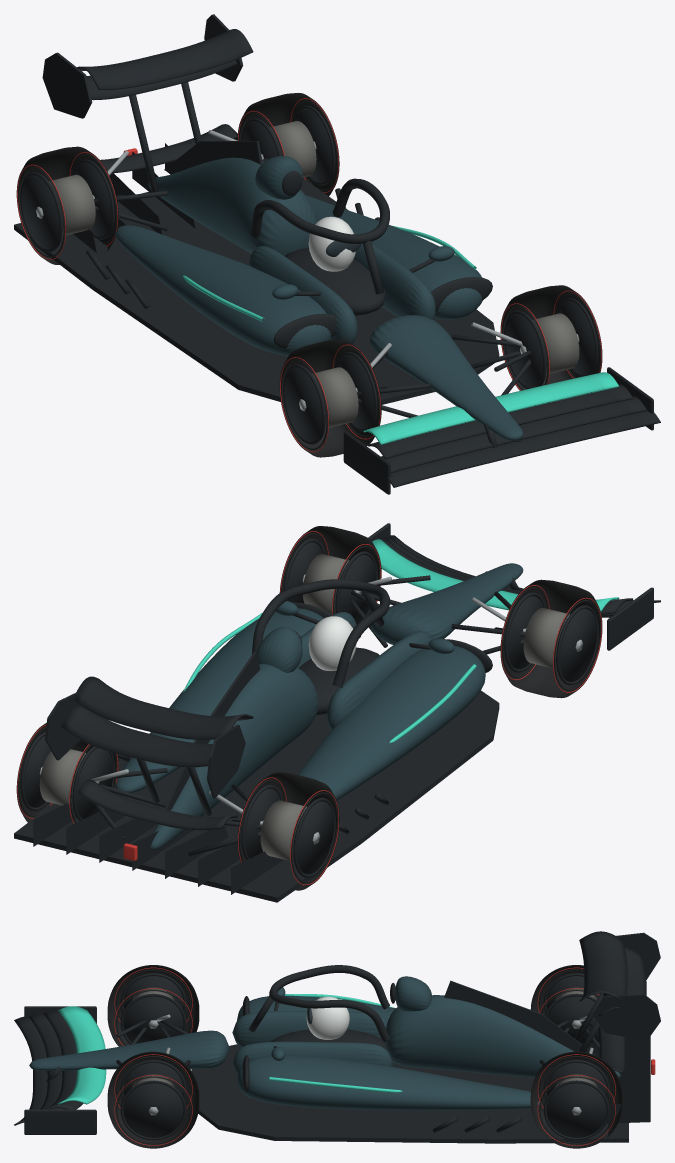
File: car-high.glb
The picture shows the model from 3 angles, top to bottom: view 1: azimuth 30°, elevation 25°; view 2: azimuth 150°, elevation 25°; view 3: azimuth 270°, elevation 25°; orthographic projection. The views are drawn at different scales.
Parts seen in each view (by area): view 1: TD_V4_OpenWheel_Carbon, TD_V4_OpenWheel_Paint, TD_V4_OpenWheel_Accent, Wheel_F-1_Carbon, Wheel_R-1_Carbon, Wheel_F1_Carbon, Wheel_F-1_Tyre, Wheel_R-1_Tyre, Wheel_F1_Tyre, Wheel_R1_Carbon, Wheel_R1_Tyre, Wheel_F-1_BrakeDisc (+5 smaller); view 2: TD_V4_OpenWheel_Carbon, TD_V4_OpenWheel_Paint, Wheel_F-1_Carbon, Wheel_R-1_Carbon, Wheel_F-1_Tyre, TD_V4_OpenWheel_Accent, Wheel_R1_Carbon, Wheel_F1_Carbon, Wheel_R-1_Tyre, Wheel_F1_Tyre, Wheel_F-1_BrakeDisc, Wheel_R-1_BrakeDisc (+5 smaller); view 3: TD_V4_OpenWheel_Carbon, TD_V4_OpenWheel_Paint, Wheel_R1_Carbon, Wheel_F1_Carbon, Wheel_F-1_Carbon, TD_V4_OpenWheel_Accent, Wheel_F1_Tyre, Wheel_R1_Tyre, Wheel_F-1_Tyre, Wheel_R-1_Carbon, TD_V4_OpenWheel_Helmet, Wheel_R-1_Tyre (+3 smaller).
Boxes of the visible parts, <box> form: TD_V4_OpenWheel_Carbon: <box>14,14,660,494</box>; TD_V4_OpenWheel_Paint: <box>115,156,523,440</box>; TD_V4_OpenWheel_Accent: <box>183,225,619,444</box>; Wheel_F-1_Carbon: <box>283,352,377,444</box>; Wheel_R-1_Carbon: <box>20,159,114,252</box>; Wheel_F1_Carbon: <box>504,298,598,388</box>; Wheel_F-1_Tyre: <box>279,339,381,457</box>; Wheel_R-1_Tyre: <box>16,146,118,264</box>; Wheel_F1_Tyre: <box>500,285,602,390</box>; Wheel_R1_Carbon: <box>241,105,335,185</box>; Wheel_R1_Tyre: <box>237,93,339,196</box>; Wheel_F-1_BrakeDisc: <box>312,367,358,428</box>; TD_V4_OpenWheel_Carbon: <box>14,523,660,902</box>; TD_V4_OpenWheel_Paint: <box>115,563,523,850</box>; Wheel_F-1_Carbon: <box>504,592,598,685</box>; Wheel_R-1_Carbon: <box>241,785,335,877</box>; Wheel_F-1_Tyre: <box>500,579,602,698</box>; TD_V4_OpenWheel_Accent: <box>183,539,619,742</box>; Wheel_R1_Carbon: <box>20,732,115,820</box>; Wheel_F1_Carbon: <box>283,538,377,624</box>; Wheel_R-1_Tyre: <box>237,772,339,890</box>; Wheel_F1_Tyre: <box>279,526,381,614</box>; Wheel_F-1_BrakeDisc: <box>523,608,569,669</box>; Wheel_R-1_BrakeDisc: <box>260,800,306,861</box>; TD_V4_OpenWheel_Carbon: <box>14,931,660,1143</box>; TD_V4_OpenWheel_Paint: <box>29,976,621,1110</box>; Wheel_R1_Carbon: <box>543,1060,609,1140</box>; Wheel_F1_Carbon: <box>120,1060,186,1140</box>; Wheel_F-1_Carbon: <box>120,973,186,1044</box>; TD_V4_OpenWheel_Accent: <box>58,994,402,1104</box>; Wheel_F1_Tyre: <box>107,1051,199,1148</box>; Wheel_R1_Tyre: <box>530,1051,622,1148</box>; Wheel_F-1_Tyre: <box>107,965,199,1046</box>; Wheel_R-1_Carbon: <box>543,973,600,1043</box>; TD_V4_OpenWheel_Helmet: <box>306,996,349,1039</box>; Wheel_R-1_Tyre: <box>530,965,598,1015</box>.
Bounding box in the file's own units: 2.03 × 1.18 × 5.08.
